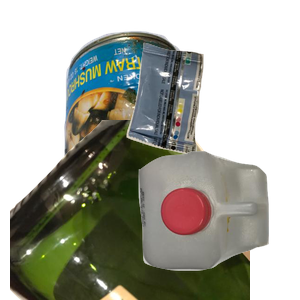glass: (10, 120, 250, 300)
metal: (60, 28, 300, 208)
plastic: (136, 149, 300, 300)
trash: (124, 40, 300, 188)
